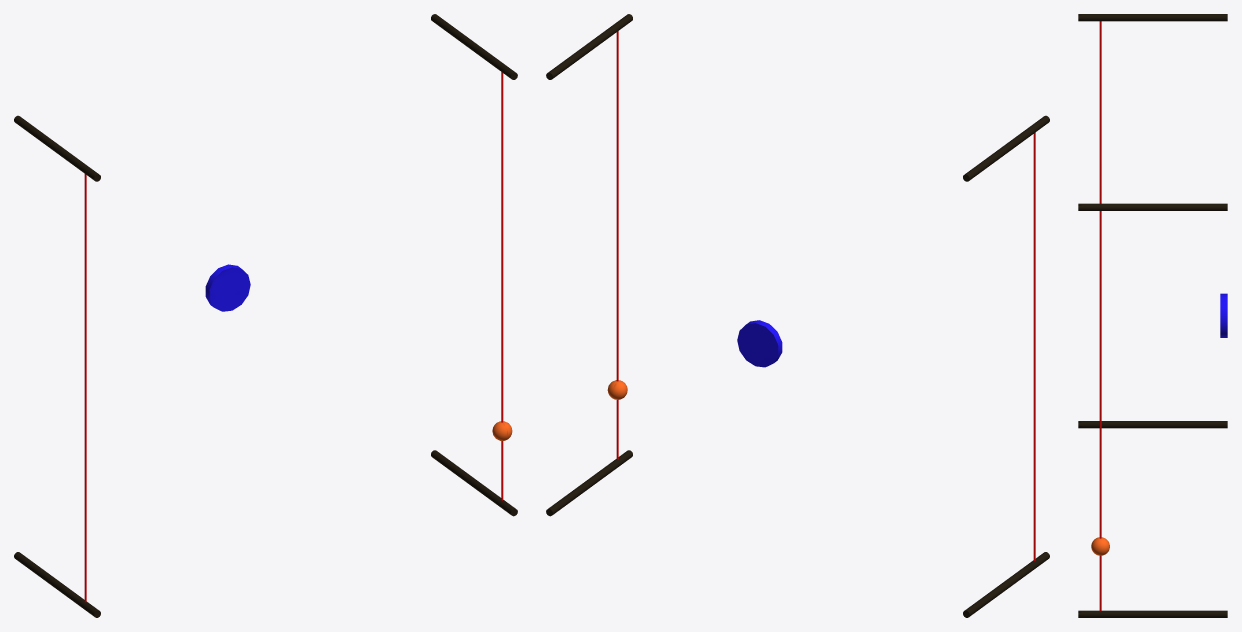
File: fase_2.obj
3 renders of one model, left to right at view 1: azimuth 30°, elevation 25°; view 2: azimuth 150°, elevation 25°; view 3: azimuth 270°, elevation 25°, orthographic. The views are drawn at different scales.
Visible parts, largest first — view 1: fase_2; view 2: fase_2; view 3: fase_2.
Part boxes in pixels (x1=…): fase_2: x1=14, y1=14, x2=517, y2=617; fase_2: x1=546, y1=14, x2=1049, y2=617; fase_2: x1=1078, y1=14, x2=1227, y2=617.
Size of the model in its own units: 6.17 by 6.1 by 2.
